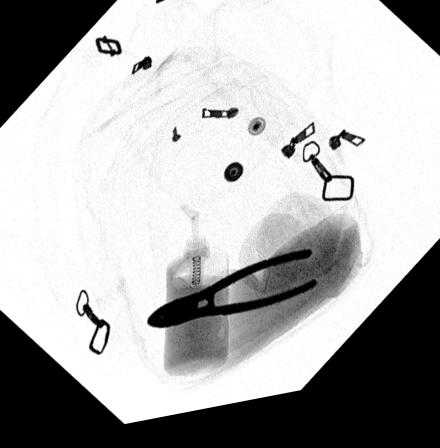Pliers: (146, 258, 316, 334)
